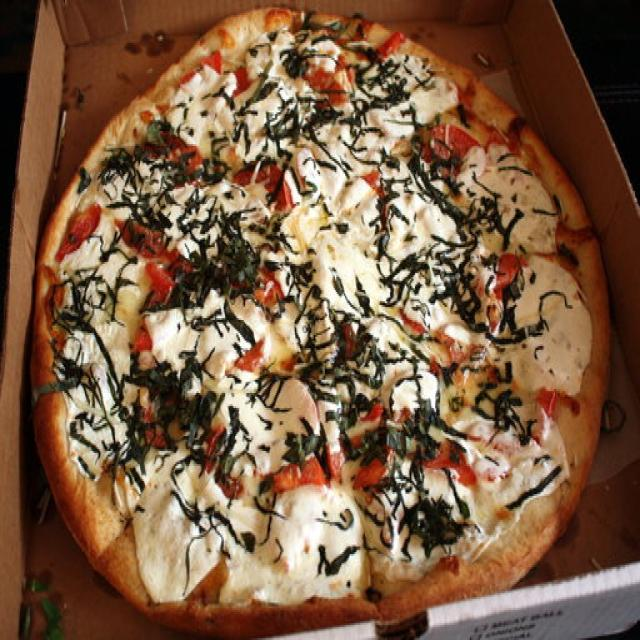Cheese: (152, 313, 320, 439), (298, 152, 363, 288), (144, 465, 207, 596), (474, 149, 556, 245), (275, 491, 360, 582), (522, 270, 588, 385), (62, 318, 120, 448), (392, 54, 453, 125), (185, 79, 236, 160), (172, 179, 220, 245), (99, 233, 140, 309), (393, 185, 437, 252), (190, 79, 224, 148)
Pizza: (29, 7, 609, 640)
Tomato: (273, 452, 336, 488), (432, 435, 473, 477), (356, 442, 389, 484), (67, 208, 93, 252), (309, 62, 348, 90), (259, 266, 282, 303), (146, 265, 170, 292), (376, 36, 408, 52)
